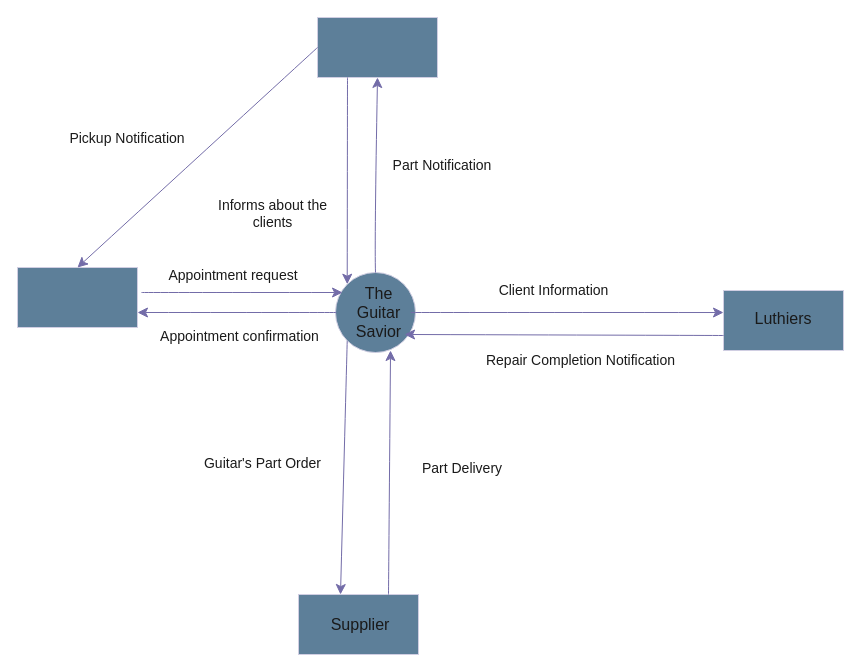
This 861x672 diagram has some shape labels left out. The box of each missing label's shape, as (x1, y1, x2, y2) in pixels:
Client: (16, 266, 138, 328)
Receptionist: (316, 16, 438, 78)
